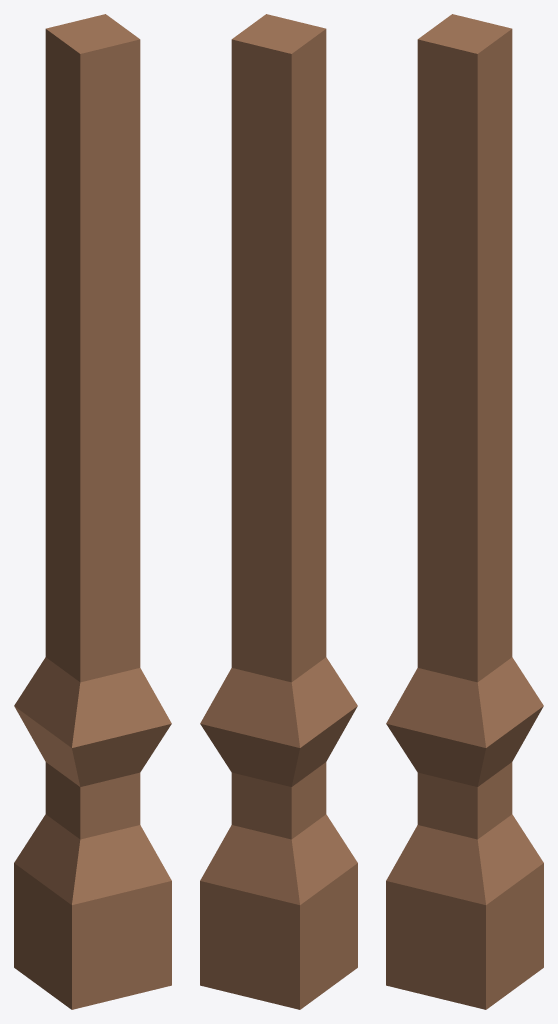
Rendered from Structure_Stairs_Railing_Peg.obj.
The picture shows the model from 3 angles, left to right: view 1: azimuth 30°, elevation 25°; view 2: azimuth 150°, elevation 25°; view 3: azimuth 330°, elevation 25°; orthographic projection.
Parts seen in each view (by area): view 1: object1; view 2: object1; view 3: object1.
Part boxes in pixels (<box>): object1: <box>14,14,171,1009</box>; object1: <box>200,14,357,1009</box>; object1: <box>386,14,543,1009</box>.
Bounding box in the file's own units: 0.05 × 0.45 × 0.05.
